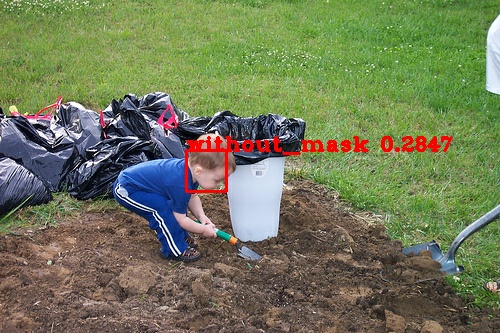without_mask: (191, 151, 234, 193)
